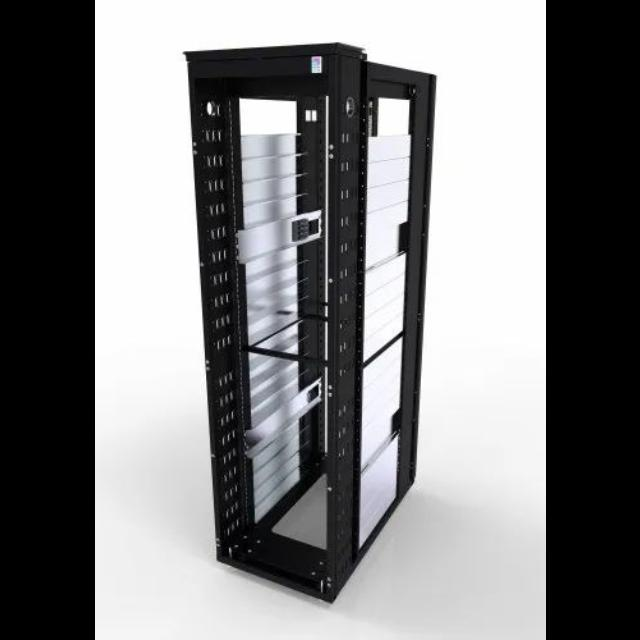Server: (184, 41, 443, 606)
